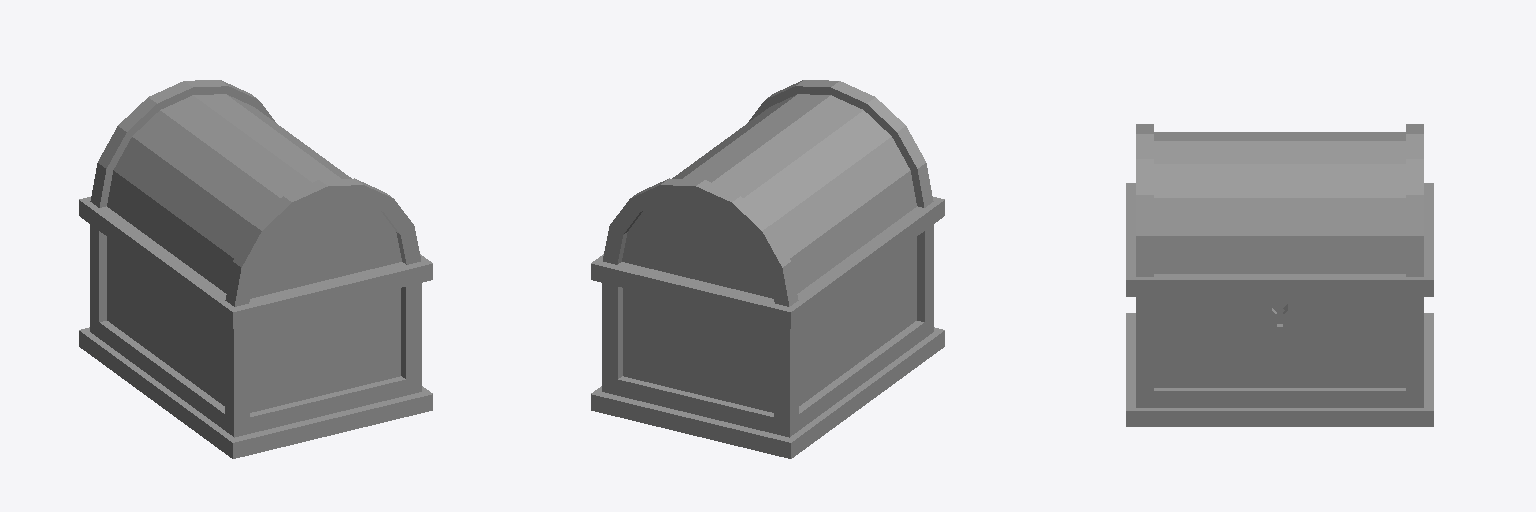
Rendered from chest-4.obj.
3 views of the same model, side by side, from view 1: azimuth 30°, elevation 25°; view 2: azimuth 150°, elevation 25°; view 3: azimuth 270°, elevation 25° (orthographic).
Visible parts, largest first — view 1: box_Cube; view 2: box_Cube; view 3: box_Cube.
Boxes of the visible parts, x1,y1,x2,y2 form: box_Cube: [79, 80, 432, 458]; box_Cube: [591, 80, 944, 458]; box_Cube: [1126, 124, 1433, 426].
Size of the model in its own units: 0.6431 by 0.75 by 0.8574.